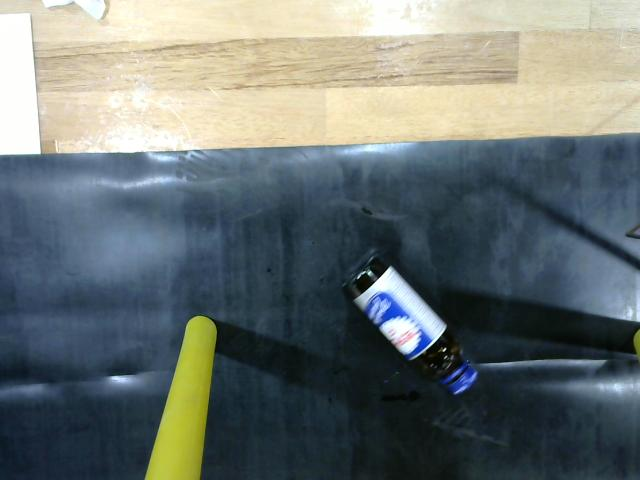glass: (326, 230, 493, 417)
